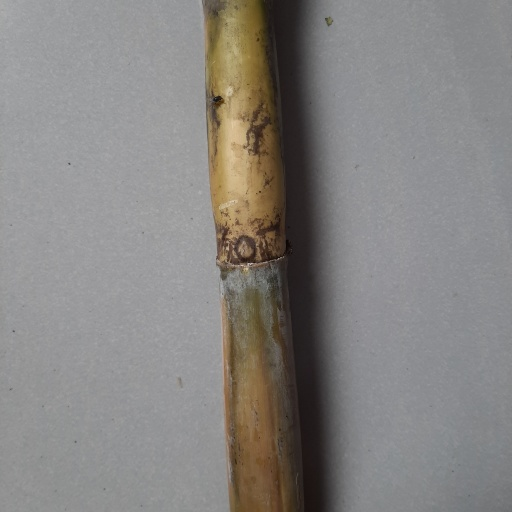Bud: (236, 235, 256, 263)
